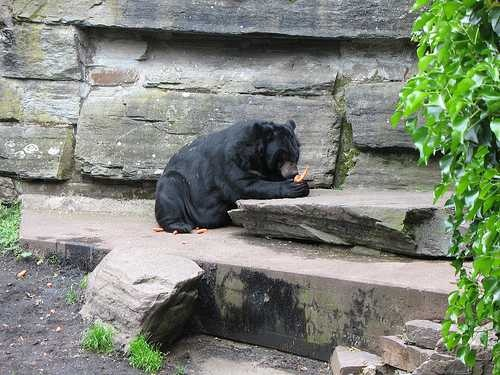bear: (184, 109, 312, 237)
